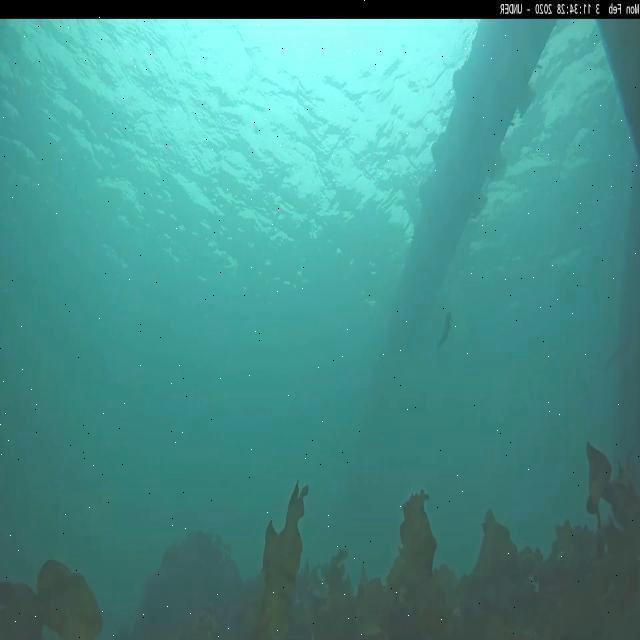fish: (602, 334, 632, 375), (434, 310, 454, 356)
